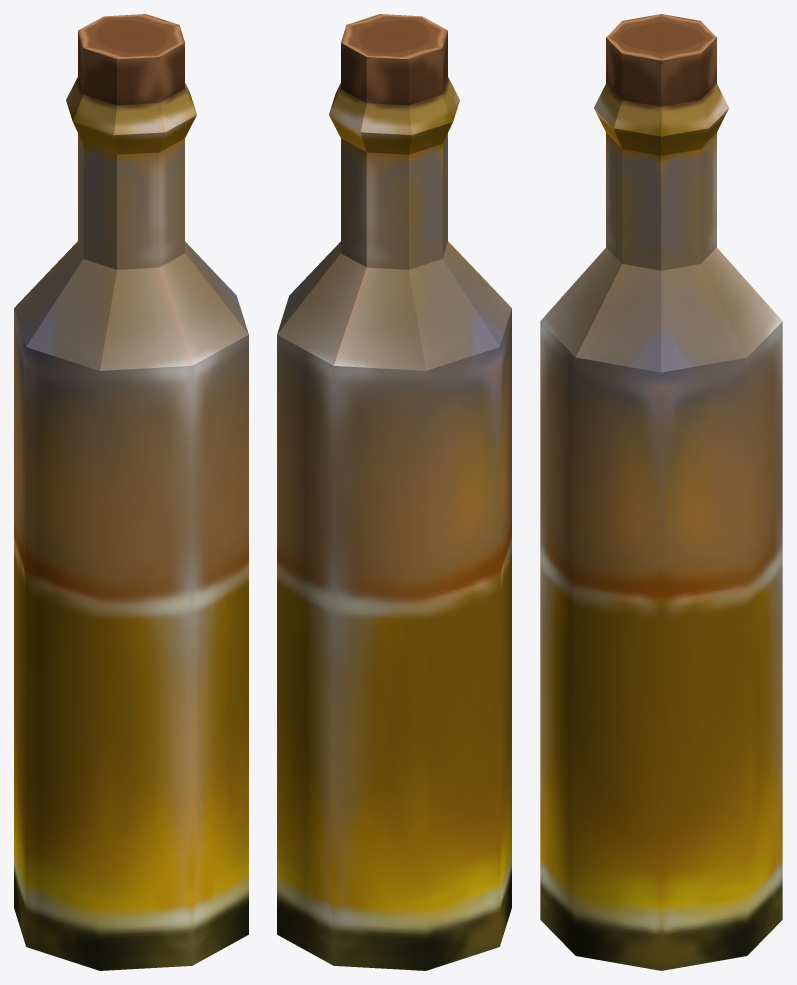
File: JiuPing08.FBX
3 renders of one model, left to right at view 1: azimuth 30°, elevation 25°; view 2: azimuth 150°, elevation 25°; view 3: azimuth 270°, elevation 25°, orthographic.
Visible parts, largest first — view 1: JiuPing08; view 2: JiuPing08; view 3: JiuPing08.
Part boxes in pixels (<box>): JiuPing08: <box>14,14,248,970</box>; JiuPing08: <box>277,14,511,970</box>; JiuPing08: <box>540,14,782,970</box>.
Bounding box in the file's own units: 14.45 × 58.01 × 14.45.
